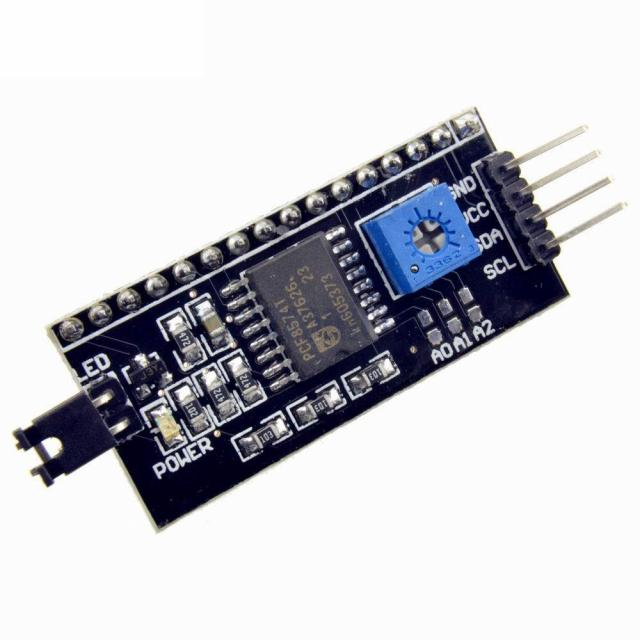4439: (122, 354, 166, 394)
IC: (246, 229, 381, 360)
LED: (151, 402, 182, 448)
capacitor 1V5: (196, 304, 230, 343)
connector -5v-: (493, 119, 636, 270), (8, 375, 138, 485)
potentiometer POT1: (374, 180, 482, 279)
resistor IR1: (166, 319, 200, 359), (231, 359, 262, 402), (302, 388, 336, 426), (359, 356, 393, 390), (247, 420, 283, 452), (204, 376, 235, 412), (183, 392, 208, 433)
